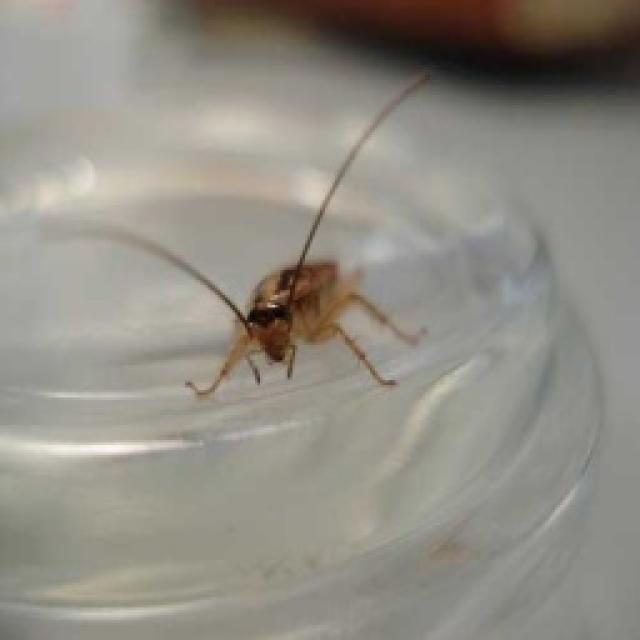cockroach: (188, 232, 426, 411)
